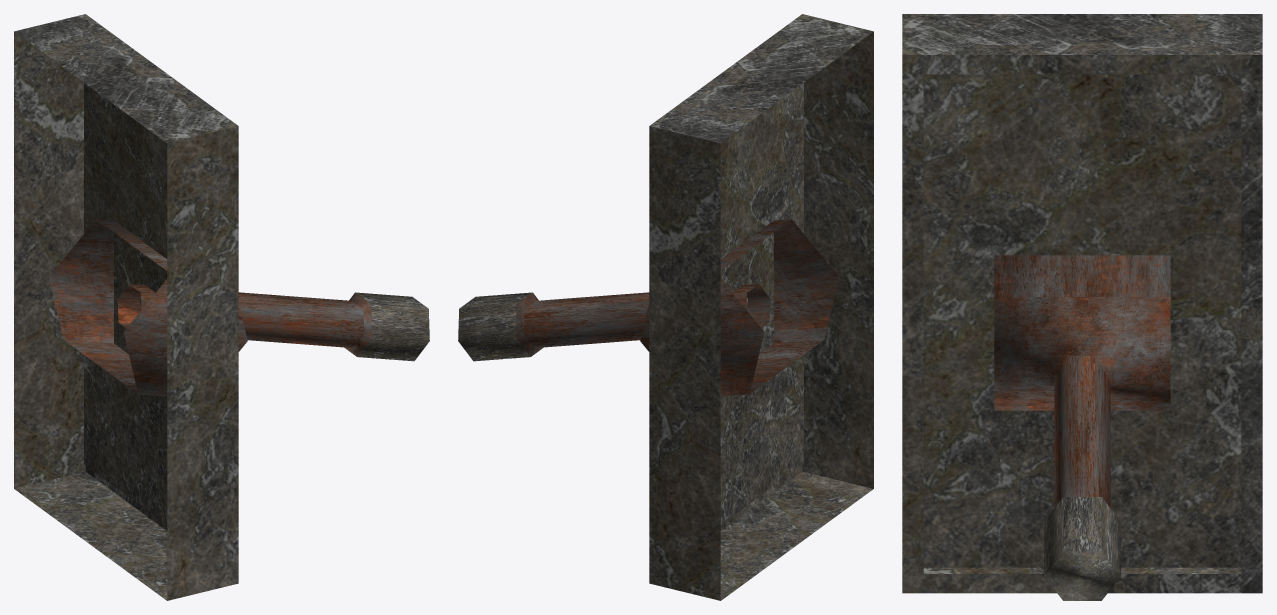
The model's file is lever_anim17.obj.
3 views of the same model, side by side, from view 1: azimuth 30°, elevation 25°; view 2: azimuth 150°, elevation 25°; view 3: azimuth 270°, elevation 25° (orthographic). The views are drawn at different scales.
Parts seen in each view (by area): view 1: Cube, Cylinder; view 2: Cube, Cylinder; view 3: Cube, Cylinder.
Boxes of the visible parts, <box> form: Cube: <box>14,14,238,600</box>; Cylinder: <box>49,219,429,396</box>; Cube: <box>649,14,873,600</box>; Cylinder: <box>458,219,838,396</box>; Cube: <box>902,14,1262,593</box>; Cylinder: <box>994,255,1170,600</box>.
Size of the model in its own units: 1.53 by 2 by 1.21.
2 materials, 2 textured.
